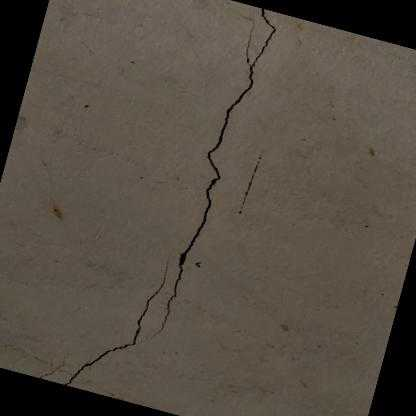crack: (159, 7, 276, 330), (62, 280, 164, 386)
